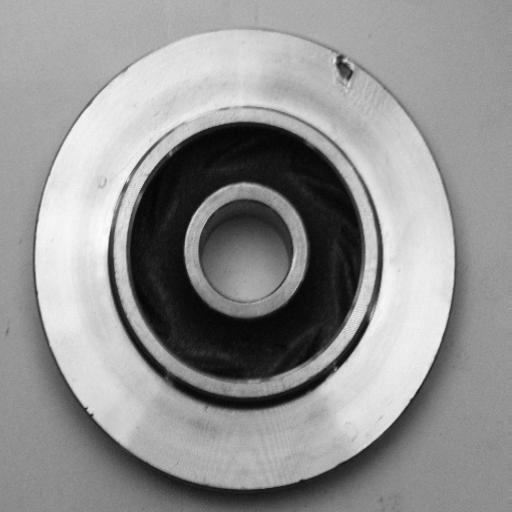crack: (325, 39, 364, 100)
scratch: (160, 99, 248, 131)
unpolished_casting: (29, 25, 461, 497)
